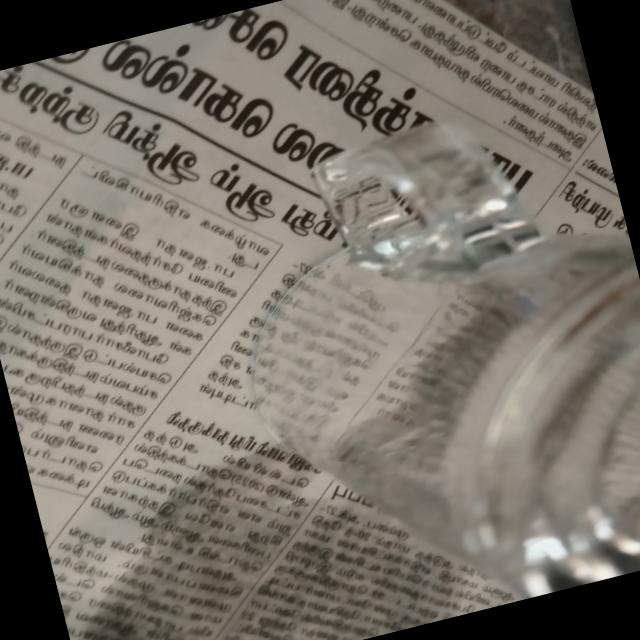glass-VX4N: (198, 85, 640, 640)
